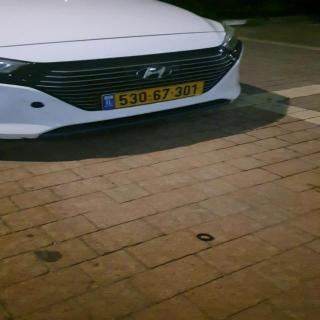LicensePlate: (114, 80, 205, 108)
